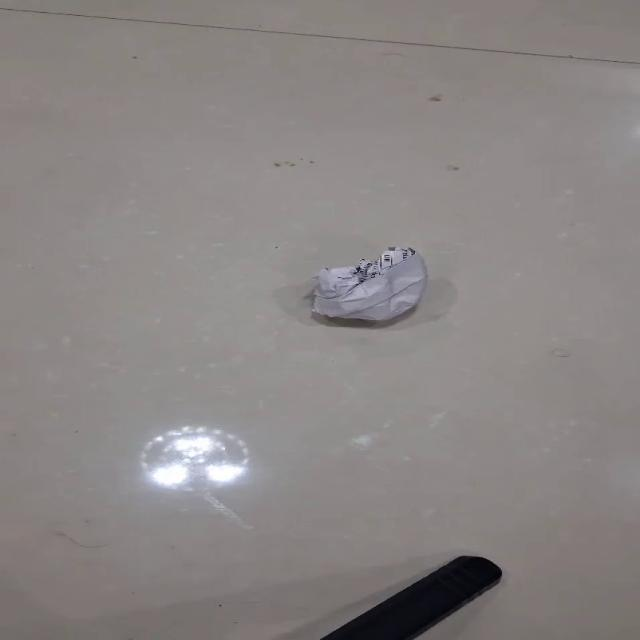paper: (309, 244, 427, 322)
